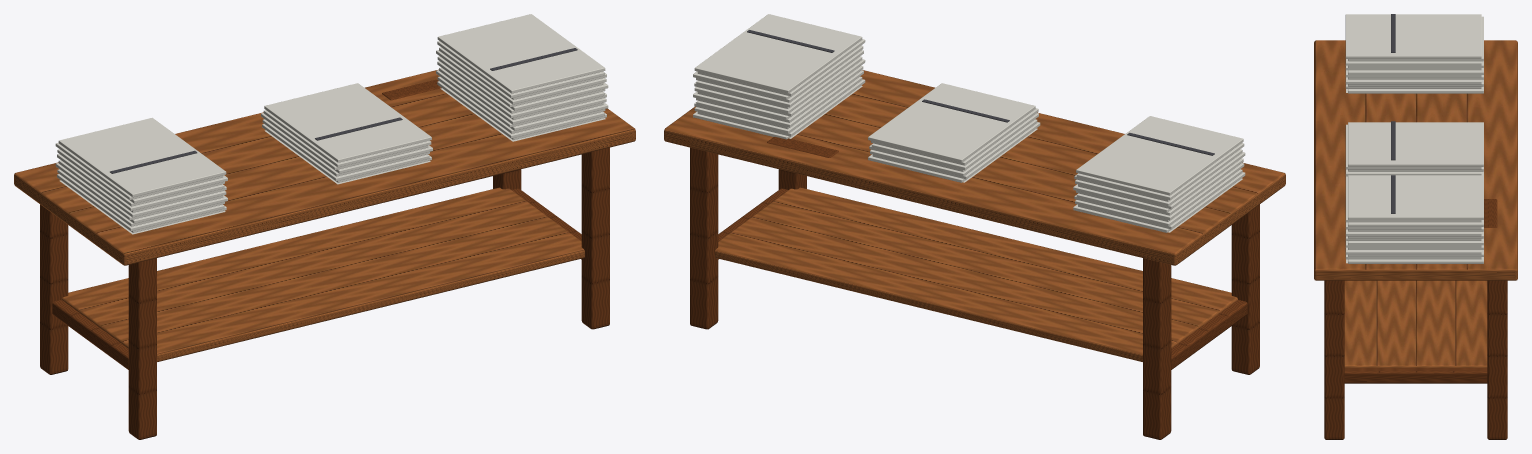
File: printing-press-and-newspaper-office-folding-table-e4120a87__37747.glb
3 views of the same model, side by side, from view 1: azimuth 30°, elevation 25°; view 2: azimuth 150°, elevation 25°; view 3: azimuth 270°, elevation 25° (orthographic). The views are drawn at different scales.
Visible parts, largest first — view 1: folding-table; view 2: folding-table; view 3: folding-table.
Boxes of the visible parts, x1,y1,x2,y2 form: folding-table: (14, 14, 635, 439); folding-table: (664, 14, 1285, 439); folding-table: (1314, 14, 1517, 439).
Size of the model in its own units: 2.4 by 1.11 by 0.9001.
5 materials, 2 textured.
